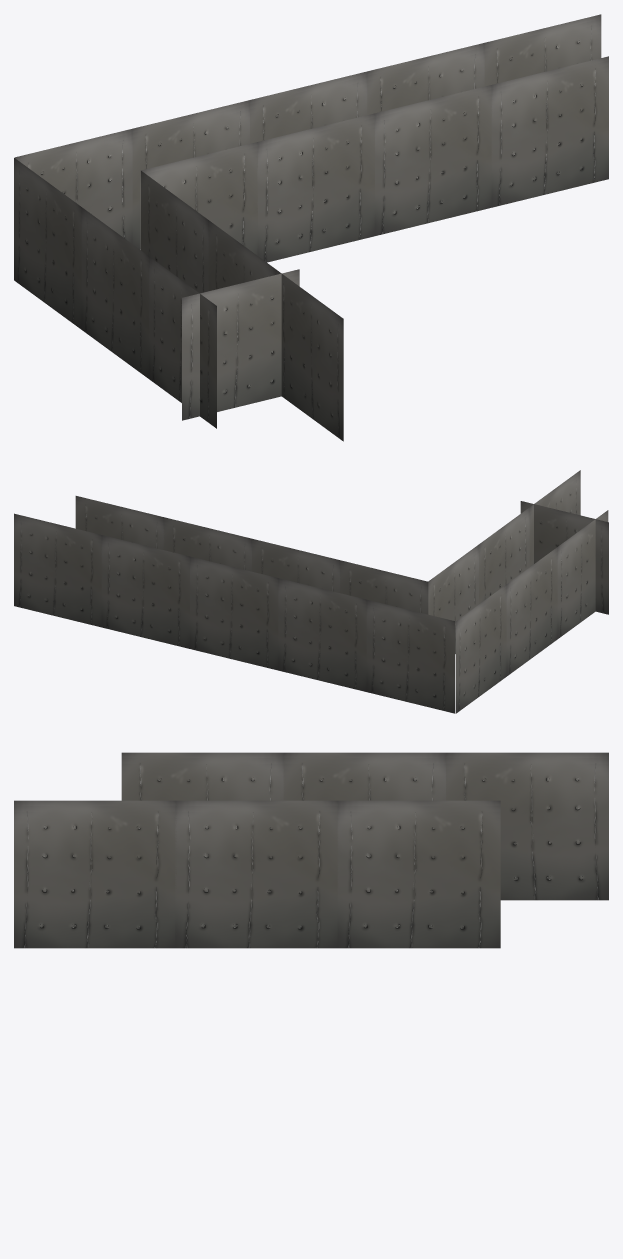
The model's file is ProtoLevel_Walls.fbx.
3 views of the same model, one above another, from view 1: azimuth 30°, elevation 25°; view 2: azimuth 150°, elevation 25°; view 3: azimuth 270°, elevation 25° (orthographic). The views are drawn at different scales.
Parts seen in each view (by area): view 1: group5; view 2: group5; view 3: group5.
Part boxes in pixels (x1,y1,x2,y2): group5: (14,14,608,441); group5: (14,470,608,713); group5: (14,752,608,948).
Size of the model in its own units: 7386 by 1434 by 5239.
Materials: 1 (1 with a texture image).
